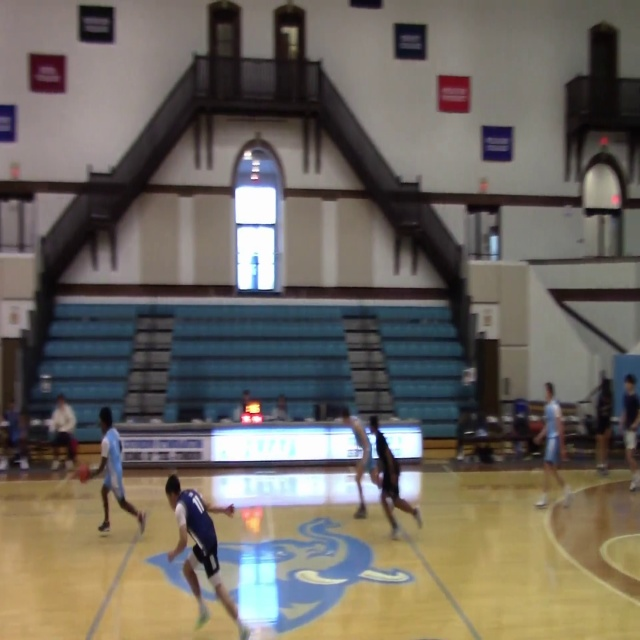Basketball: (78, 464, 89, 483), (376, 471, 384, 488)
